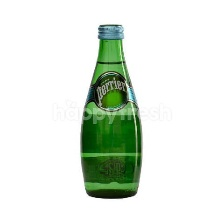bottle: (76, 18, 147, 200)
